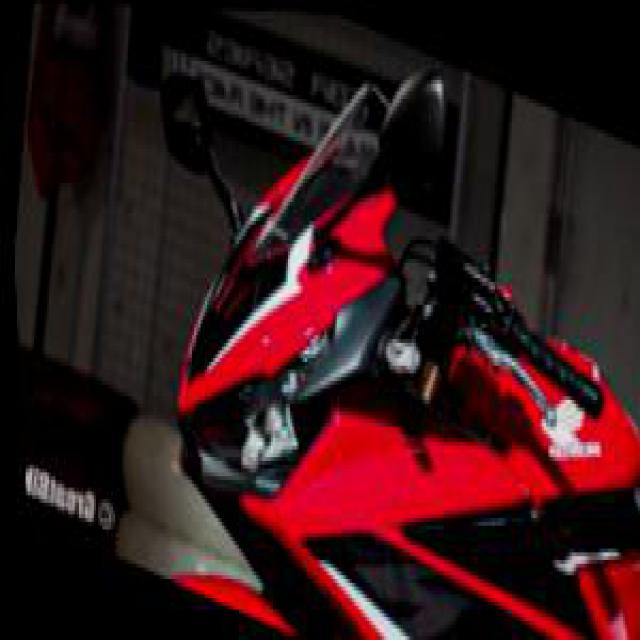CBR500R: (130, 4, 638, 636)
